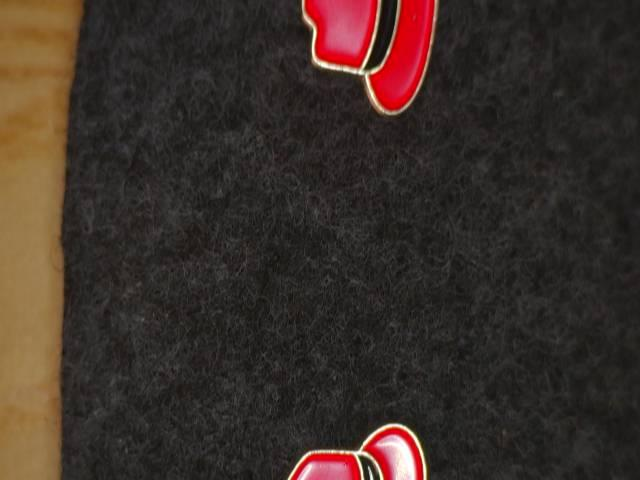Red-Hat: (275, 0, 452, 145), (269, 415, 454, 480)
